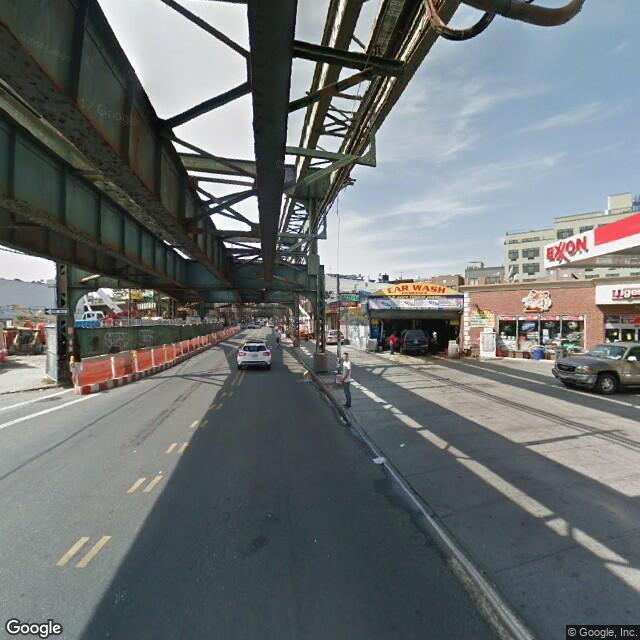litter: (368, 435, 430, 476)
